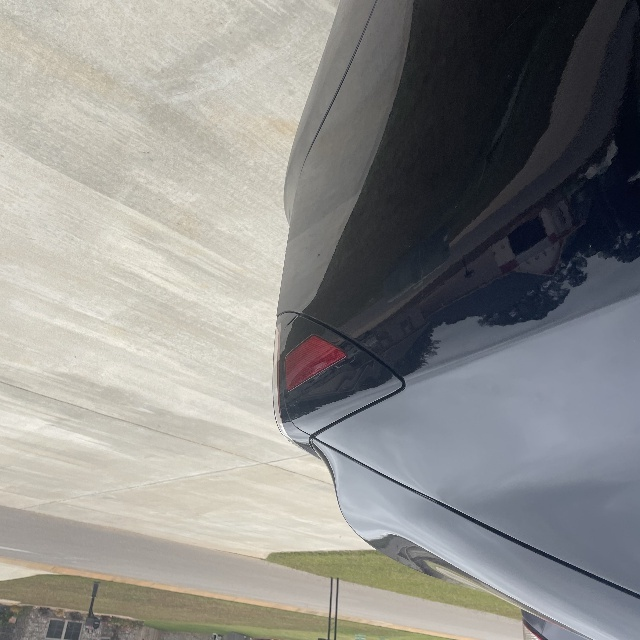reflector: (285, 335, 346, 392)
